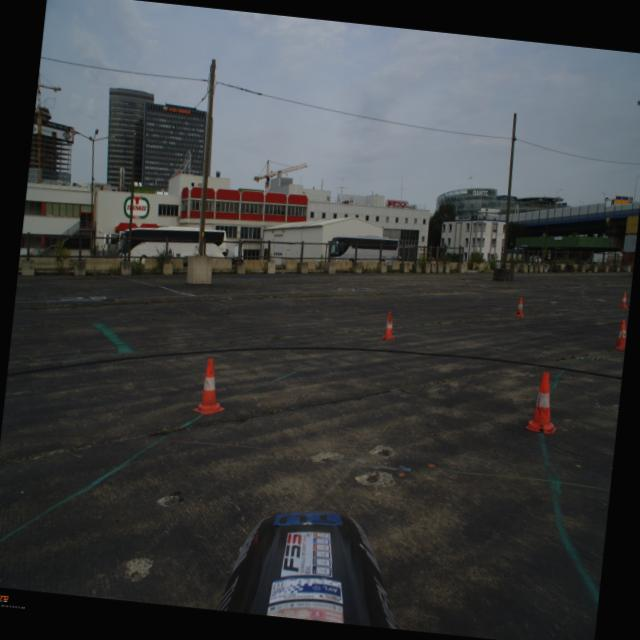orange_cone: (524, 370, 562, 435), (192, 356, 230, 416), (381, 310, 398, 341), (614, 318, 628, 351), (513, 296, 526, 318), (617, 291, 630, 309)
